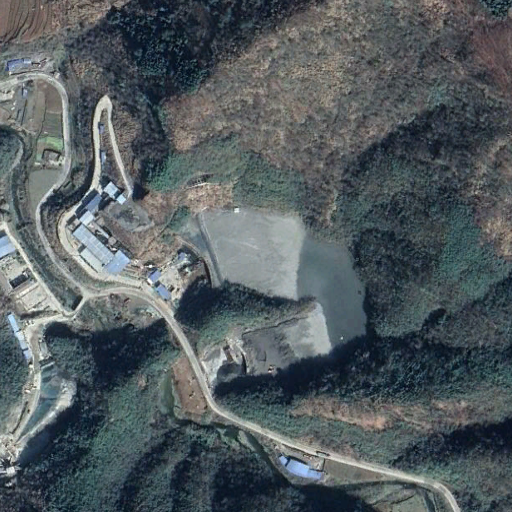tp: (181, 209, 367, 382)
